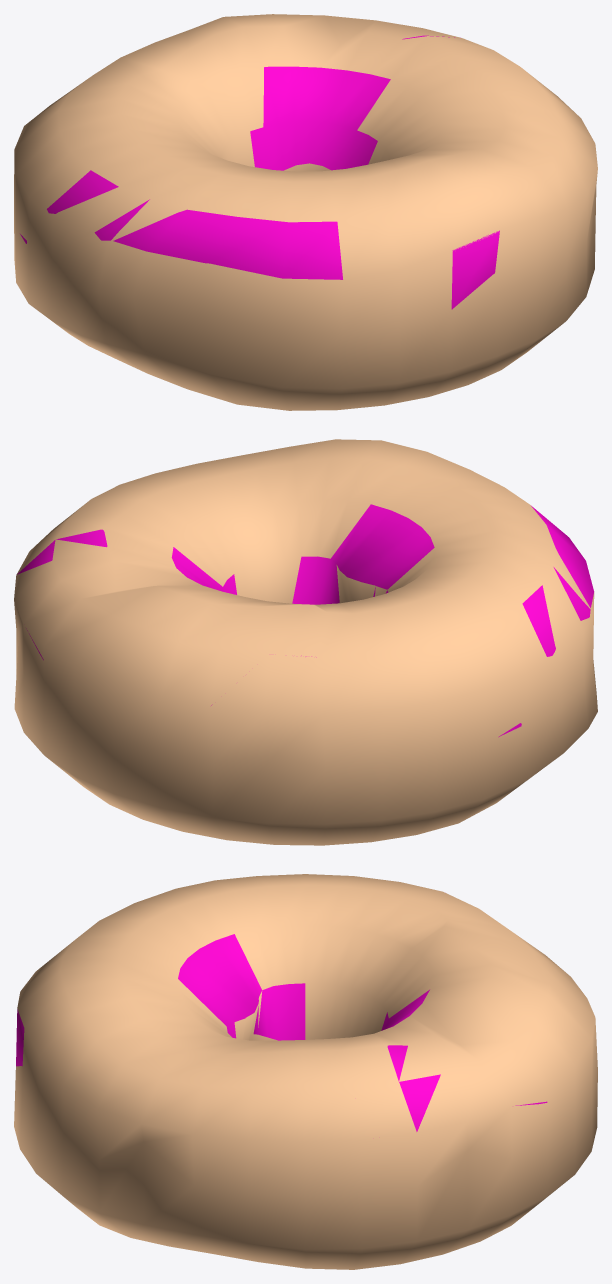
Rendered from do nutv2.glb.
3 renders of one model, top to bottom at view 1: azimuth 30°, elevation 25°; view 2: azimuth 150°, elevation 25°; view 3: azimuth 270°, elevation 25°, orthographic.
Parts seen in each view (by area): view 1: DOnut, Frost; view 2: DOnut, Frost; view 3: DOnut, Frost.
Boxes of the visible parts, bbox=[...] form: DOnut: bbox=[14, 14, 597, 410]; Frost: bbox=[20, 35, 499, 309]; DOnut: bbox=[14, 439, 597, 845]; Frost: bbox=[17, 504, 594, 737]; DOnut: bbox=[14, 874, 597, 1269]; Frost: bbox=[16, 934, 547, 1131].
Size of the model in its own units: 1.22 by 0.5049 by 1.21.
